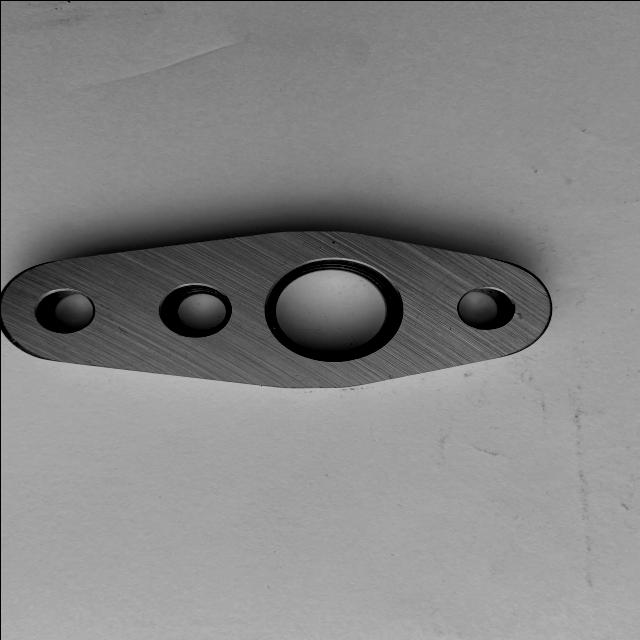chap: (292, 372, 300, 376)
lines: (116, 324, 128, 332), (515, 310, 523, 320)
